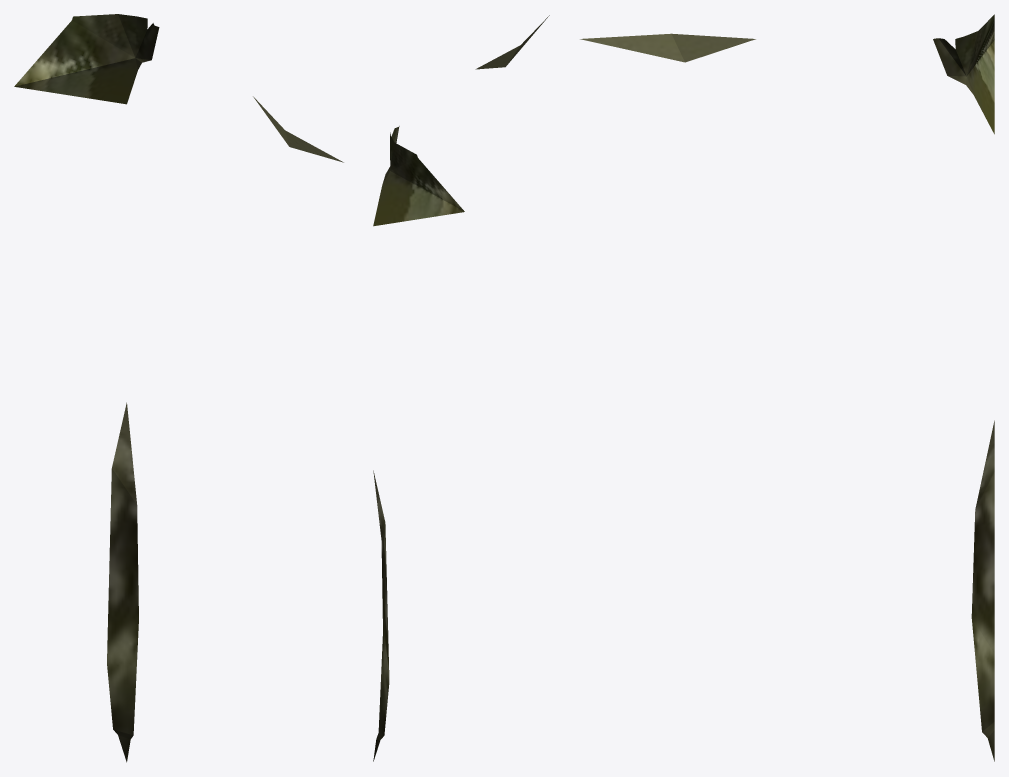
The picture shows the model from 3 angles, left to right: view 1: azimuth 30°, elevation 25°; view 2: azimuth 150°, elevation 25°; view 3: azimuth 270°, elevation 25°; orthographic projection. The views are drawn at different scales.
Bounding box in the file's own units: 0.451 × 2.9 × 1.51.
1 material, 1 textured.
